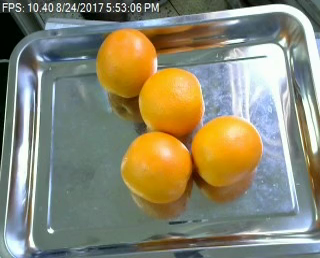Orange: (120, 131, 192, 205), (191, 113, 263, 187), (138, 67, 203, 137), (96, 28, 158, 98)
